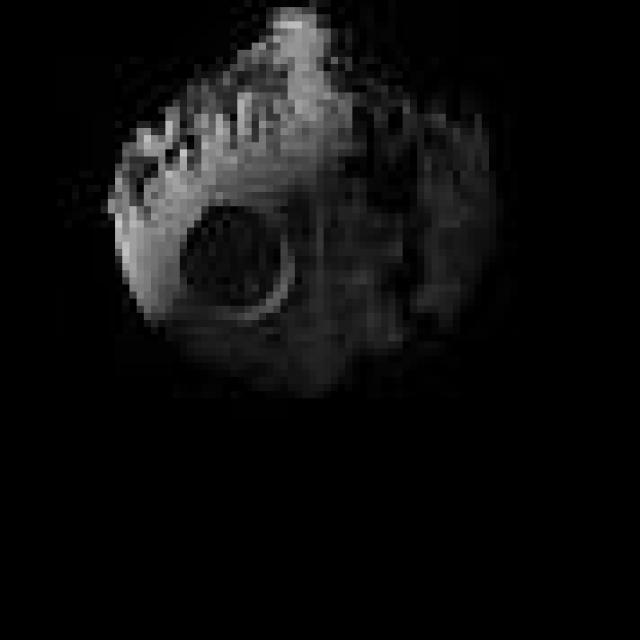Death Star: (93, 0, 510, 398)
